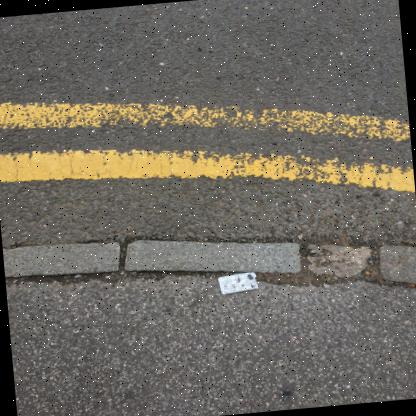Aluminium blister pack: (218, 272, 258, 294)
